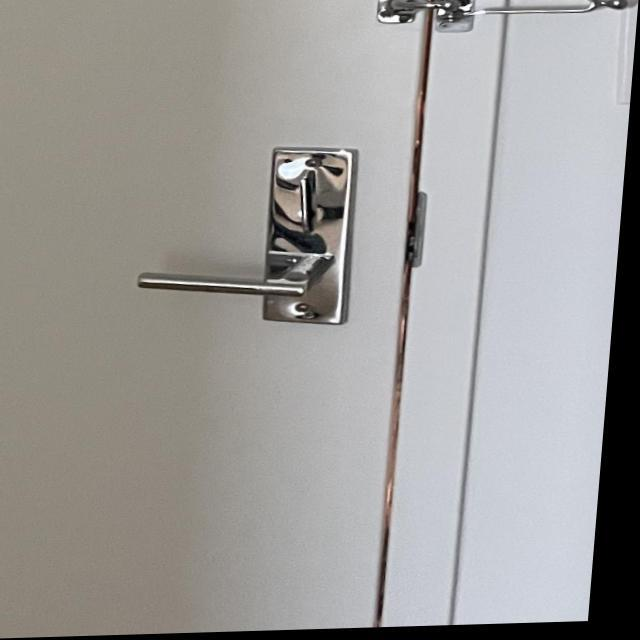door_handle: (115, 242, 370, 325)
